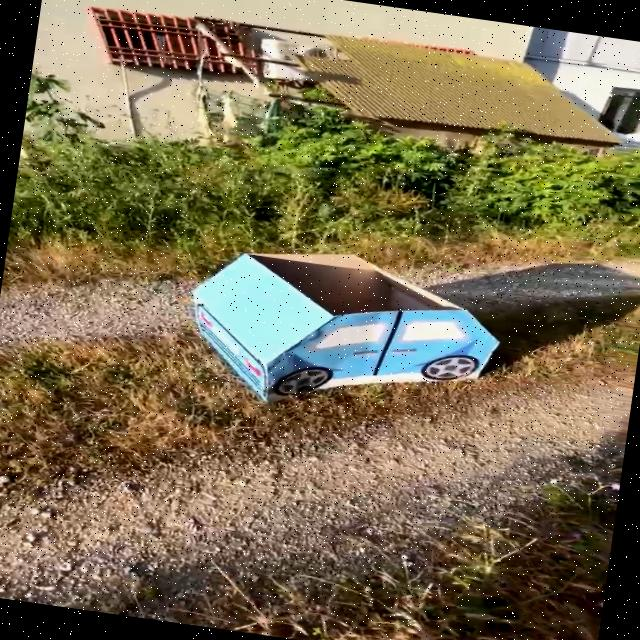blue_car: (131, 200, 572, 452)
